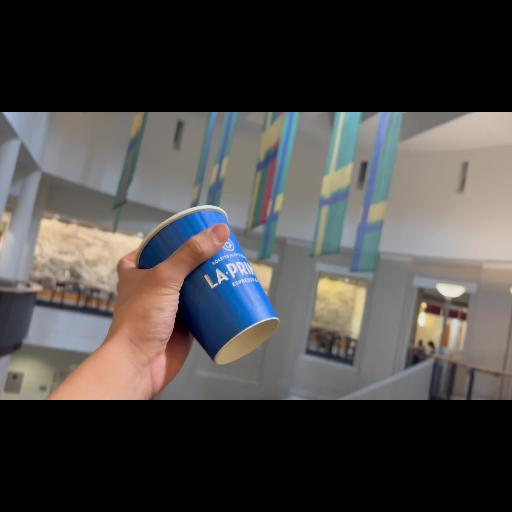lp_paper_cup: (136, 206, 280, 364)
